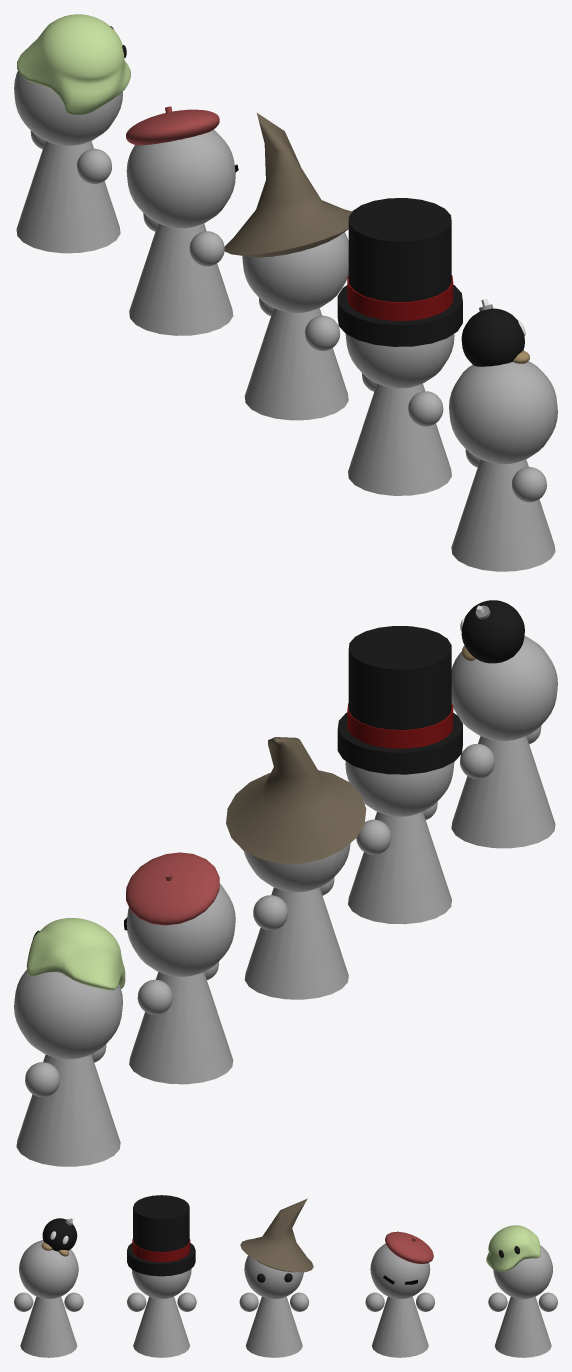
File: Spel_Pjäser_4x.fbx
The picture shows the model from 3 angles, top to bottom: view 1: azimuth 30°, elevation 25°; view 2: azimuth 150°, elevation 25°; view 3: azimuth 270°, elevation 25°; orthographic projection. The views are drawn at different scales.
Parts seen in each view (by area): view 1: pSphere7, pSphere5, pSphere2, pSphere9, pSphere8, pCylinder2, pCone2, pSphere15, pCylinder3, pSphere10, pSphere6, pCylinder4 (+5 smaller); view 2: pSphere7, pSphere9, pSphere5, pCone2, pSphere8, pSphere2, pCylinder2, pSphere6, pSphere15, pCylinder3, pSphere10, pCylinder4 (+5 smaller); view 3: pSphere7, pSphere5, pSphere9, pSphere2, pSphere8, pCylinder2, pCone2, pSphere15, pCylinder3, pSphere6, pSphere10, pCylinder4 (+10 smaller).
Boxes of the visible parts, x1,y1,x2,y2 form: pSphere7: [449, 361, 557, 571]; pSphere5: [126, 129, 235, 335]; pSphere2: [242, 232, 348, 420]; pSphere9: [14, 71, 122, 253]; pSphere8: [345, 334, 454, 495]; pCylinder2: [348, 198, 451, 301]; pCone2: [224, 113, 351, 257]; pSphere15: [17, 14, 130, 115]; pCylinder3: [337, 285, 462, 346]; pSphere10: [461, 308, 524, 366]; pSphere6: [126, 109, 219, 145]; pCylinder4: [347, 275, 453, 320]; pSphere7: [451, 636, 557, 848]; pSphere9: [14, 970, 122, 1166]; pSphere5: [126, 883, 235, 1084]; pCone2: [226, 737, 366, 863]; pSphere8: [345, 761, 454, 924]; pSphere2: [244, 843, 350, 999]; pCylinder2: [348, 626, 451, 729]; pSphere6: [126, 852, 219, 925]; pSphere15: [26, 918, 125, 990]; pCylinder3: [337, 712, 462, 774]; pSphere10: [461, 600, 524, 663]; pCylinder4: [347, 703, 453, 748]; pSphere7: [19, 1240, 78, 1357]; pSphere5: [370, 1243, 430, 1357]; pSphere9: [493, 1245, 552, 1357]; pSphere2: [244, 1255, 303, 1357]; pSphere8: [131, 1268, 191, 1357]; pCylinder2: [133, 1195, 189, 1251]; pCone2: [240, 1198, 313, 1272]; pSphere15: [486, 1225, 540, 1271]; pCylinder3: [127, 1243, 195, 1276]; pSphere6: [385, 1231, 433, 1263]; pSphere10: [42, 1218, 77, 1251]; pCylinder4: [132, 1239, 190, 1262].
Size of the model in its own units: 3.15 by 6.58 by 22.38.
